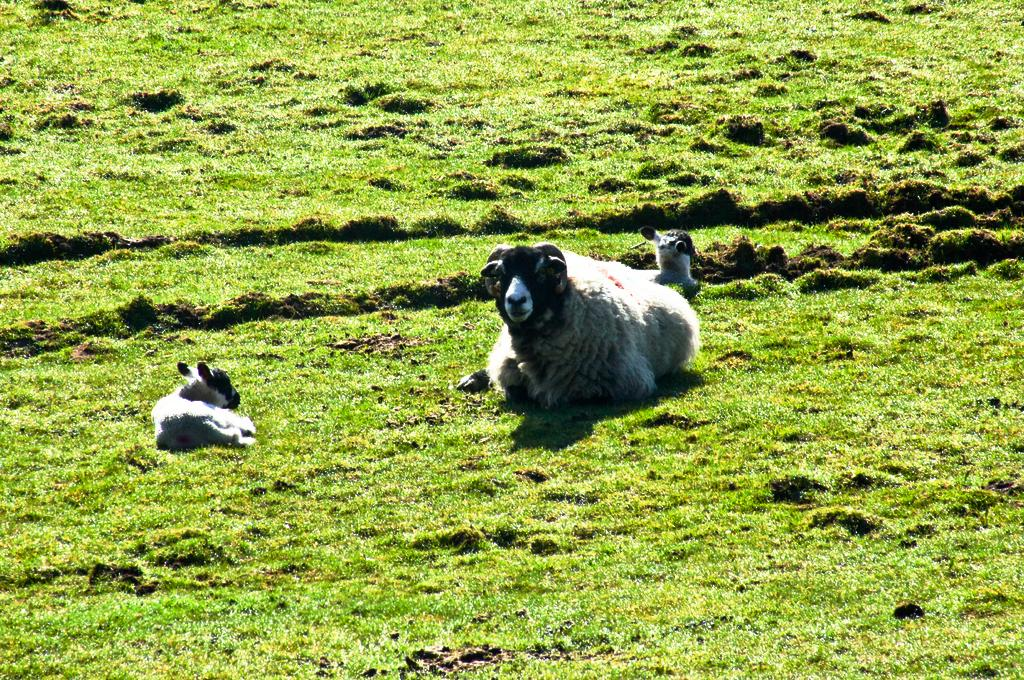Sheep: (462, 222, 702, 418), (147, 362, 252, 457), (630, 218, 698, 302)
